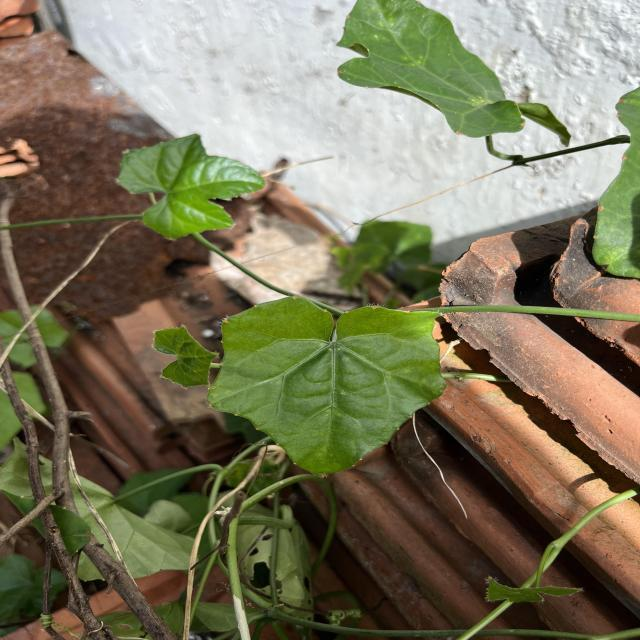Coccinia grandis: (206, 294, 452, 479)
